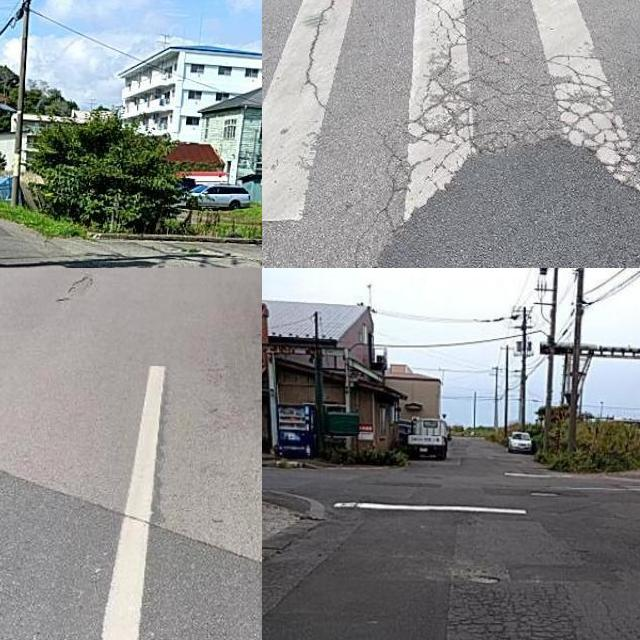Retak Buaya: (453, 584, 578, 640)
Sambungan: (0, 462, 262, 640), (372, 133, 640, 268), (262, 533, 449, 640)
